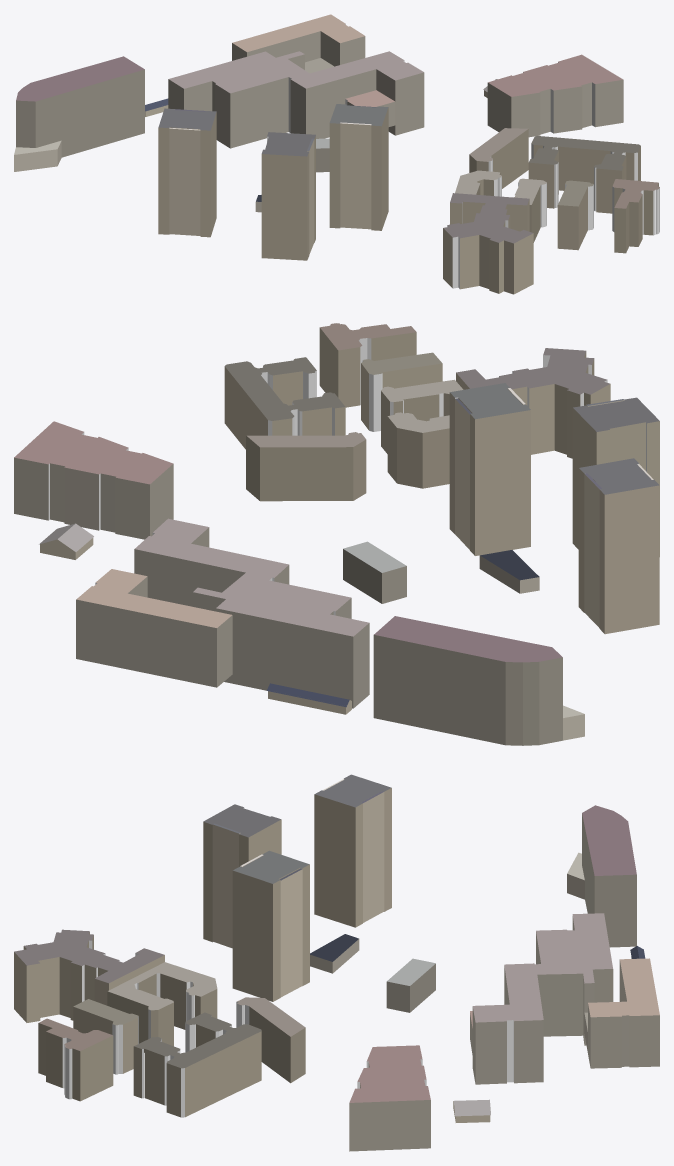
3 renders of one model, top to bottom at view 1: azimuth 30°, elevation 25°; view 2: azimuth 150°, elevation 25°; view 3: azimuth 270°, elevation 25°, orthographic. The views are drawn at different scales.
Visible parts, largest first — view 1: tuile; view 2: tuile; view 3: tuile.
Boxes of the visible parts, <box> form: tuile: <box>14,14,659,294</box>; tuile: <box>14,323,659,745</box>; tuile: <box>14,774,659,1151</box>.
Bounding box in the file's own units: 278 × 62.05 × 272.
